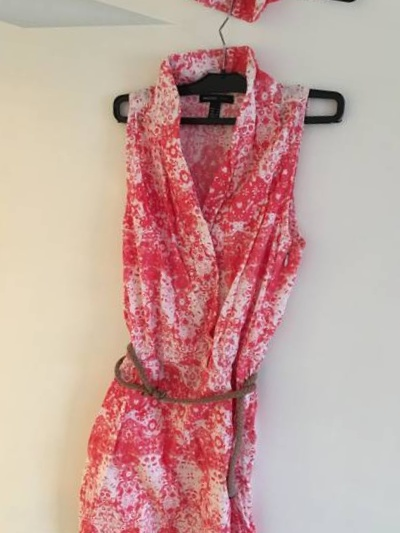Dress: (12, 34, 372, 533), (88, 0, 400, 28)
